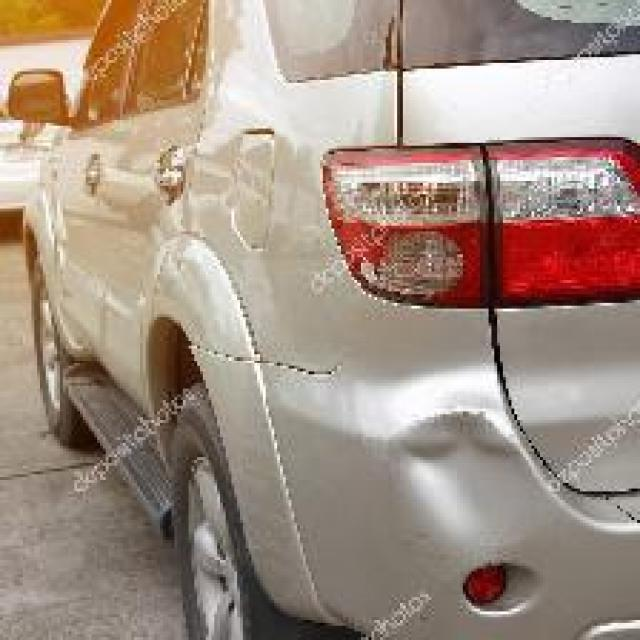damaged: (386, 408, 554, 560), (183, 332, 343, 379)
